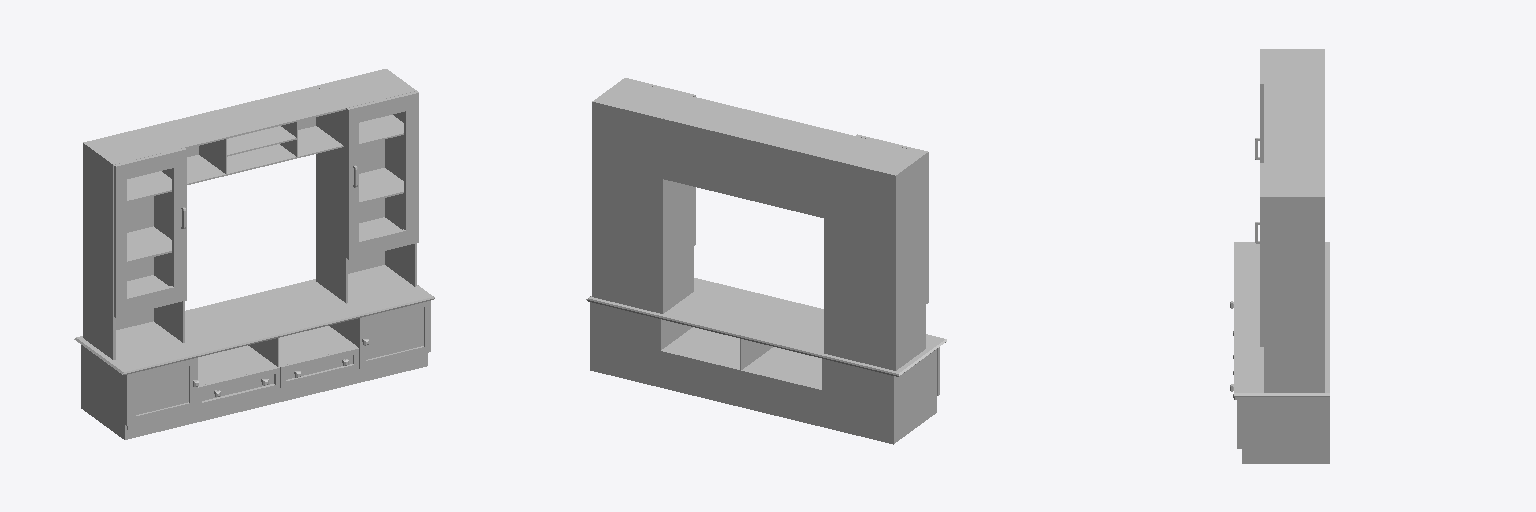
Rendered from royaloka_tvset.obj.
3 views of the same model, side by side, from view 1: azimuth 30°, elevation 25°; view 2: azimuth 150°, elevation 25°; view 3: azimuth 270°, elevation 25° (orthographic).
Visible parts, largest first — view 1: Cube_Cube.010; view 2: Cube_Cube.010; view 3: Cube_Cube.010.
Boxes of the visible parts, <box> form: Cube_Cube.010: <box>74,69,434,439</box>; Cube_Cube.010: <box>586,78,946,444</box>; Cube_Cube.010: <box>1234,49,1329,463</box>.
Size of the model in its own units: 97.21 by 79.2 by 27.07.